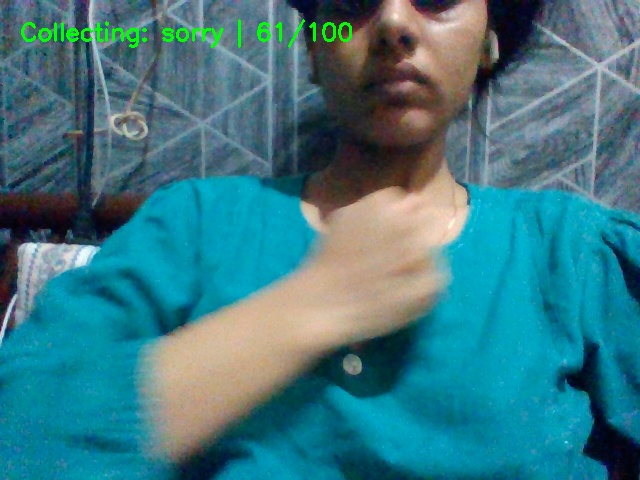sorry: (298, 186, 480, 362)
